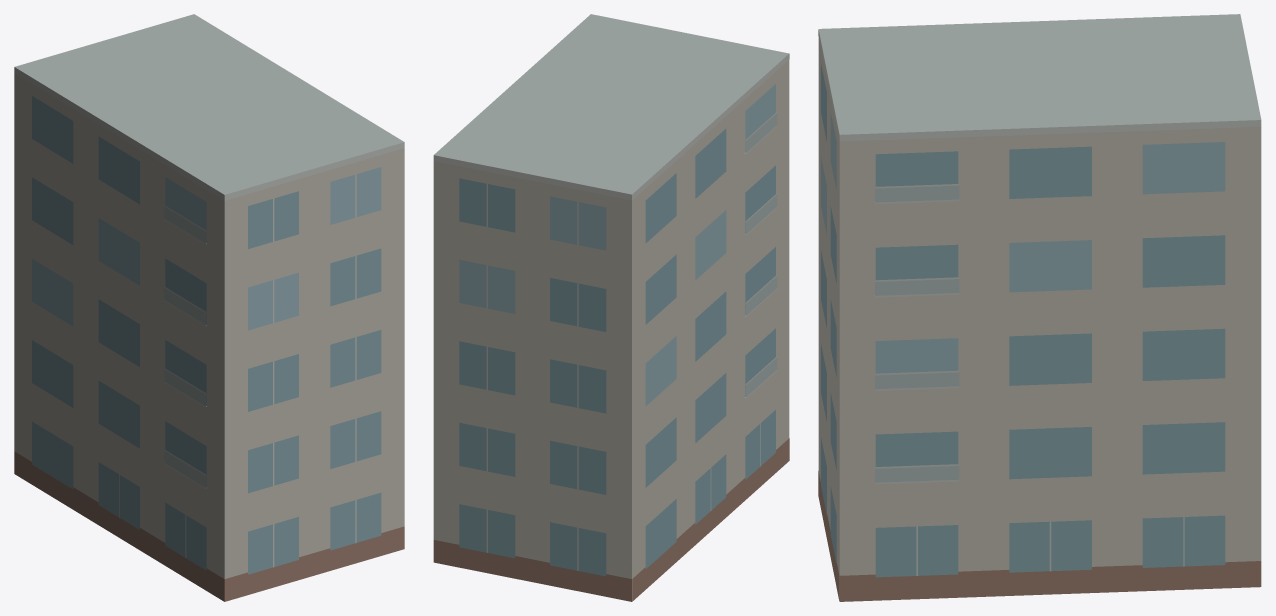
The model's file is survey-upis-32909613.glb.
3 views of the same model, side by side, from view 1: azimuth 30°, elevation 25°; view 2: azimuth 150°, elevation 25°; view 3: azimuth 270°, elevation 25° (orthographic). The views are drawn at different scales.
Parts seen in each view (by area): view 1: survey-upis-32909613.tmp; view 2: survey-upis-32909613.tmp; view 3: survey-upis-32909613.tmp.
Part boxes in pixels (x1=…): survey-upis-32909613.tmp: x1=14, y1=14, x2=404, y2=601; survey-upis-32909613.tmp: x1=433, y1=14, x2=789, y2=601; survey-upis-32909613.tmp: x1=818, y1=14, x2=1261, y2=601.
Size of the model in its own units: 9.3 by 16.75 by 14.41.
